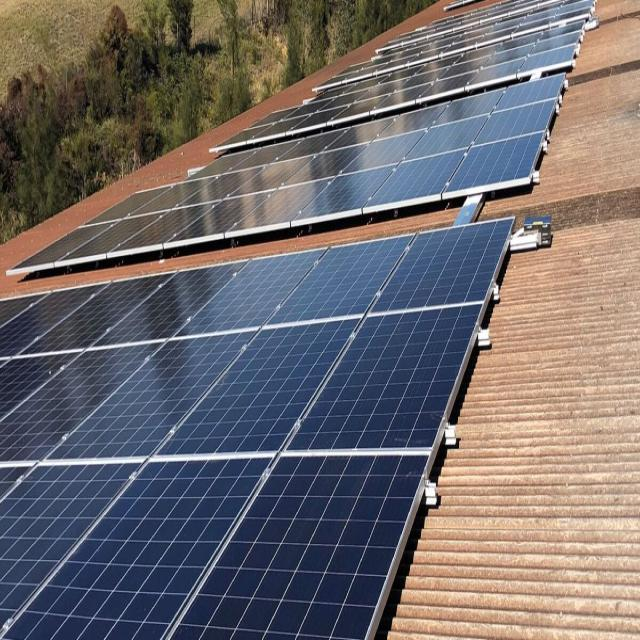clean-solar-panel: (0, 218, 512, 638)
